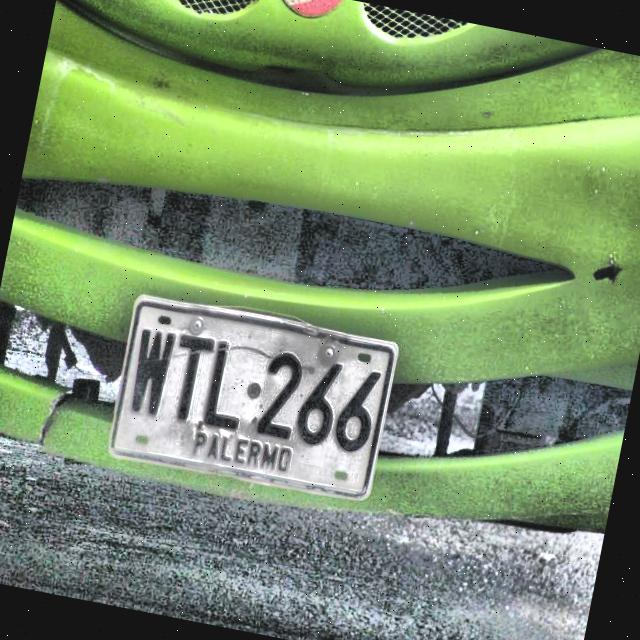2: (251, 347, 310, 444)
6: (330, 363, 386, 457), (293, 357, 348, 450)
L: (199, 339, 246, 433)
T: (165, 332, 216, 425)
W: (126, 324, 181, 418)
